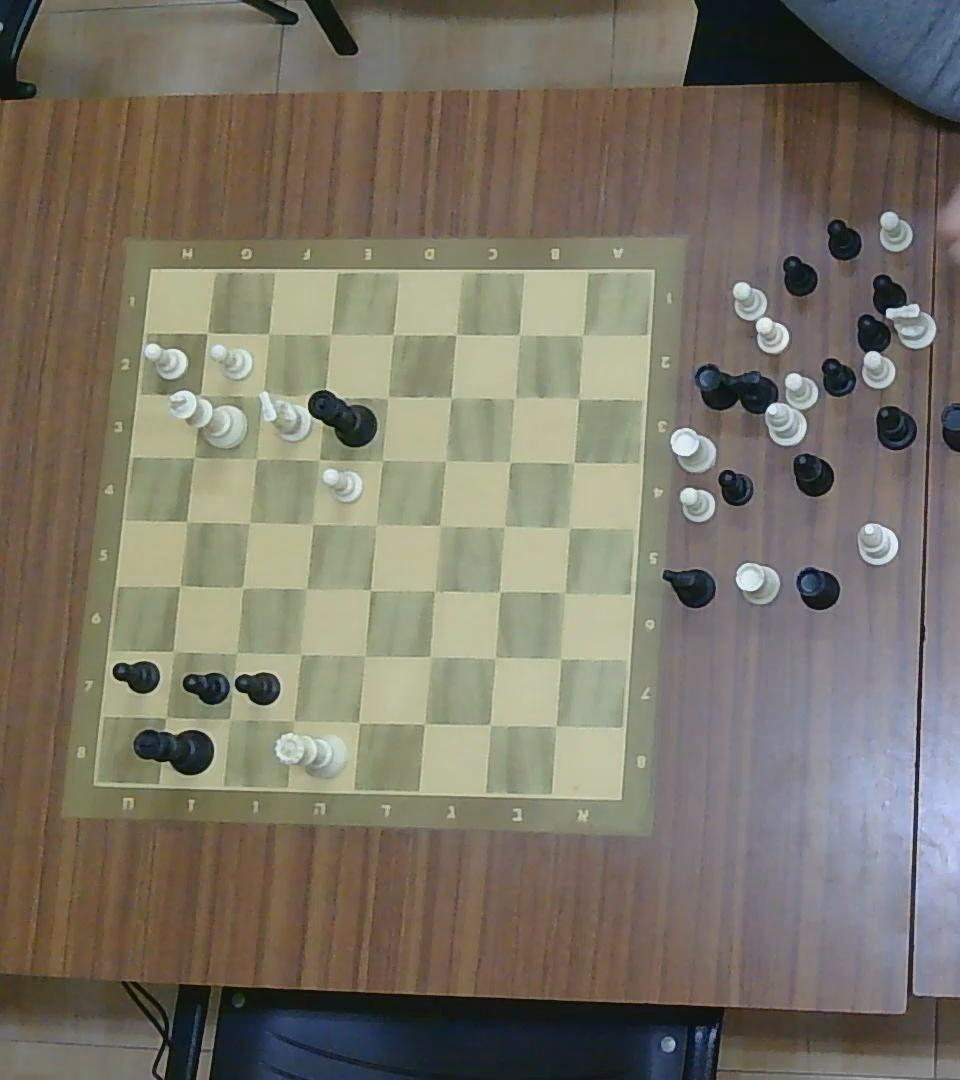xcorner: (477, 712, 503, 738), (543, 714, 569, 739), (412, 711, 437, 736), (246, 382, 271, 407), (281, 708, 305, 732), (347, 710, 371, 734), (418, 644, 442, 668), (482, 646, 506, 669), (154, 704, 178, 726), (288, 643, 311, 665), (371, 449, 392, 471), (354, 645, 375, 667), (218, 708, 240, 729), (188, 384, 210, 405), (439, 386, 461, 406), (549, 648, 571, 668), (319, 324, 341, 344), (225, 642, 245, 663), (183, 447, 203, 467), (366, 514, 386, 534), (423, 580, 443, 600), (383, 325, 403, 345), (378, 387, 397, 408), (429, 514, 448, 535), (296, 578, 315, 599), (435, 450, 454, 470), (361, 580, 380, 600), (259, 324, 278, 344), (446, 325, 465, 345), (170, 575, 189, 595), (177, 511, 196, 531), (314, 386, 333, 406), (309, 448, 327, 469), (489, 582, 508, 601), (560, 518, 579, 537), (303, 514, 321, 534), (248, 449, 266, 468), (240, 513, 258, 532), (198, 323, 217, 341), (500, 451, 518, 470), (555, 583, 574, 601), (564, 453, 583, 471), (495, 517, 513, 535), (165, 642, 183, 660), (233, 578, 251, 596), (505, 389, 523, 406), (511, 326, 528, 344), (573, 327, 591, 344), (572, 390, 587, 405)
